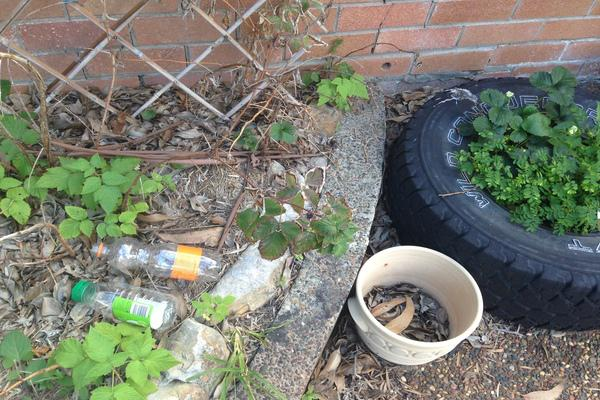Plastic Bottle: (90, 242, 221, 284), (72, 281, 177, 330)
